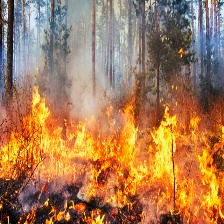fire: (5, 93, 224, 222)
smoke: (49, 6, 121, 103)
